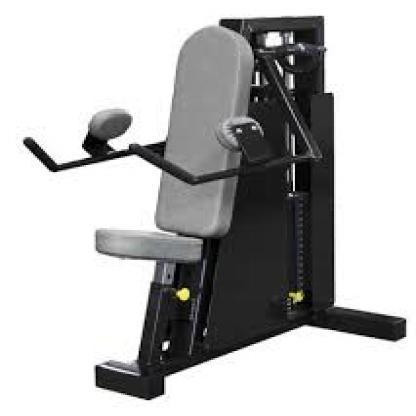lateral raises machine: (23, 18, 408, 400)
